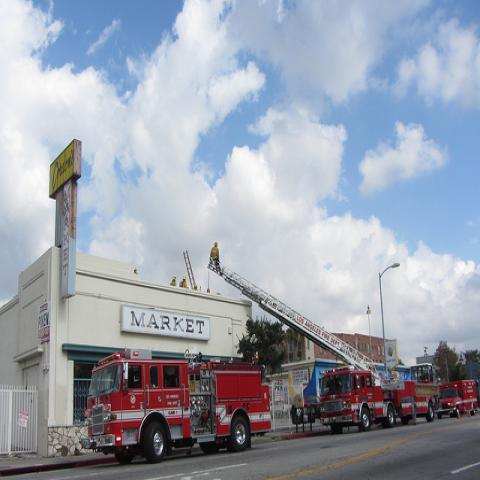truck: (207, 258, 417, 436), (82, 349, 271, 464), (407, 362, 441, 420), (434, 379, 479, 419)
